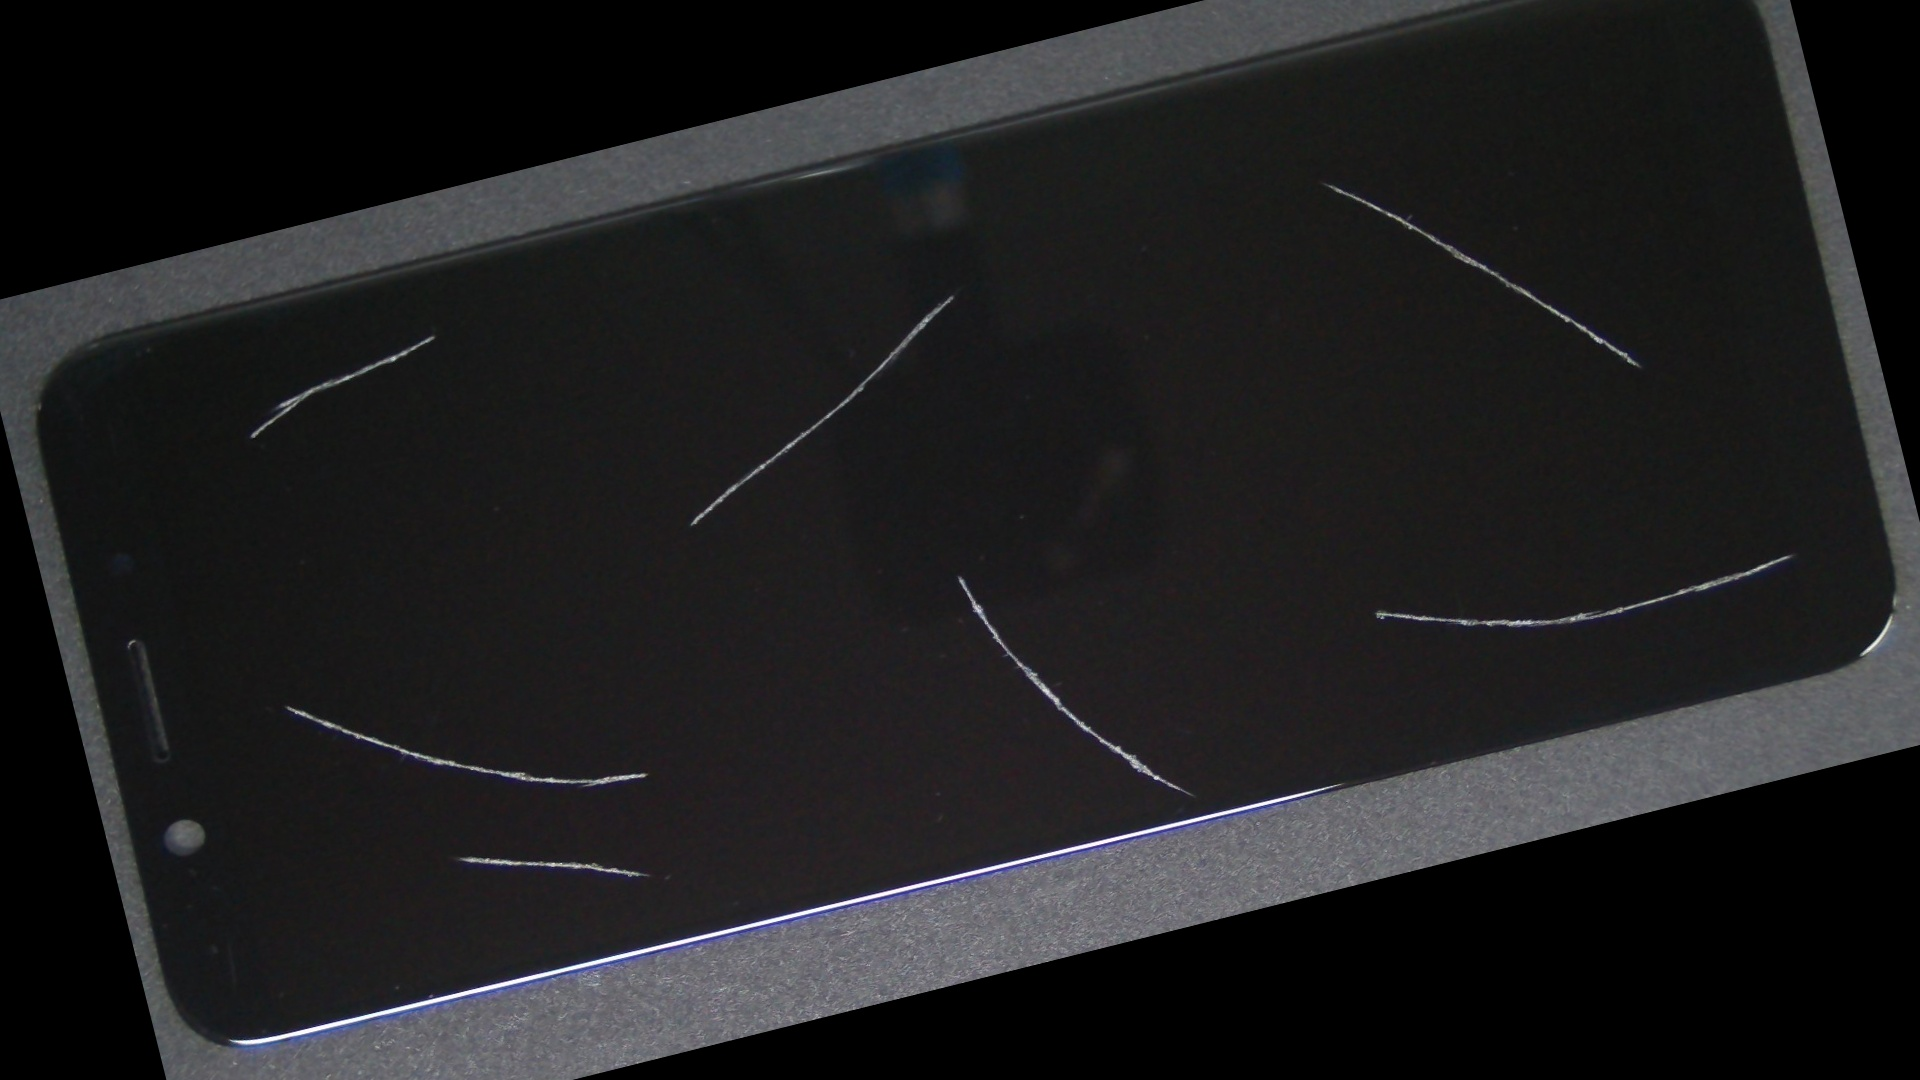oil: (675, 169, 1920, 1019), (464, 225, 1447, 926), (642, 0, 1832, 448), (464, 70, 1441, 518), (215, 500, 678, 1080), (111, 440, 456, 973), (204, 214, 662, 454)
